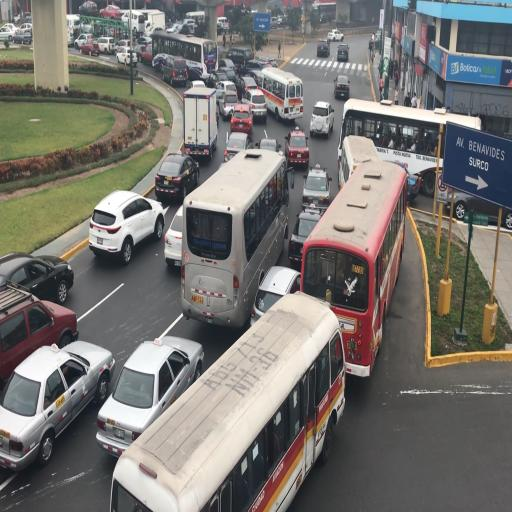auto: (1, 338, 114, 472), (95, 335, 202, 454), (2, 283, 78, 398), (88, 187, 166, 263), (0, 250, 74, 308), (252, 265, 300, 326), (154, 152, 200, 206), (286, 210, 322, 272), (87, 207, 122, 258), (301, 163, 330, 211), (284, 126, 308, 168), (310, 99, 334, 137), (243, 86, 267, 124), (161, 54, 188, 86), (229, 102, 254, 136), (224, 130, 252, 160), (214, 79, 237, 115), (213, 58, 237, 85), (243, 58, 273, 79), (236, 74, 259, 101), (133, 40, 153, 64), (256, 135, 281, 153), (116, 46, 138, 66), (333, 74, 350, 99), (12, 24, 32, 44), (79, 38, 100, 56), (99, 4, 122, 20), (152, 52, 171, 71), (104, 23, 126, 39), (97, 36, 116, 54), (78, 0, 98, 15), (0, 23, 19, 38), (336, 42, 350, 62), (257, 55, 277, 68), (78, 18, 94, 34), (174, 21, 192, 35), (216, 16, 230, 34), (317, 39, 330, 57), (328, 29, 344, 42), (188, 80, 208, 90), (166, 21, 182, 33), (120, 10, 132, 26), (276, 15, 286, 27), (22, 10, 32, 22), (20, 22, 33, 31), (270, 16, 278, 30), (216, 18, 224, 28)
bus: (182, 84, 219, 163)
moto: (112, 299, 330, 507), (305, 148, 404, 373), (342, 99, 478, 209), (256, 66, 302, 123), (123, 8, 162, 35), (226, 45, 254, 73), (311, 0, 335, 24), (66, 14, 81, 45), (185, 10, 206, 32)
